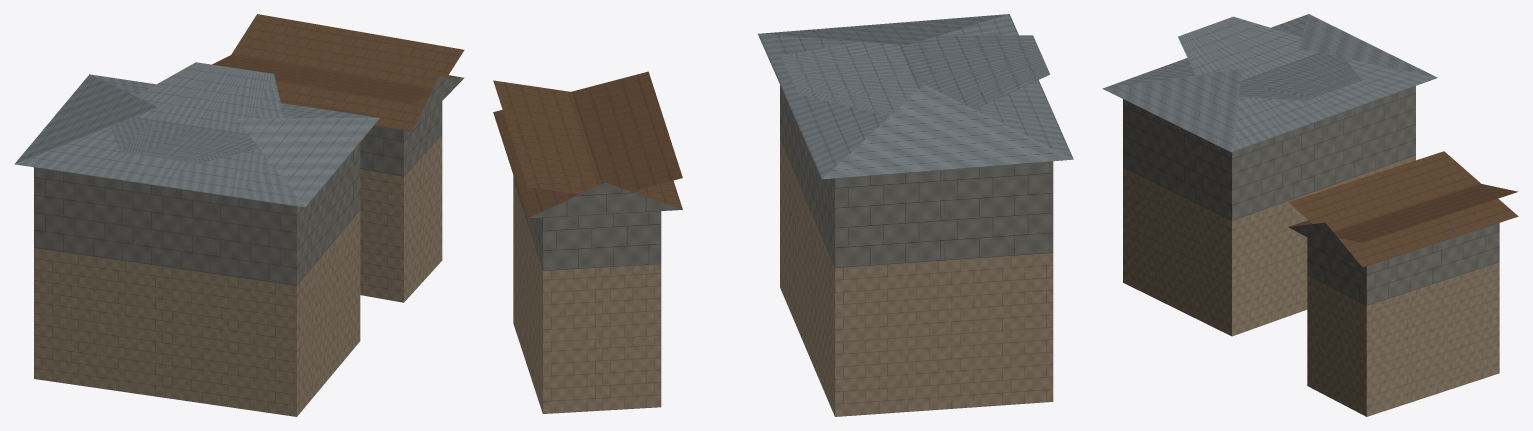
Rendered from bld_c15_38_408.gltf.
The picture shows the model from 3 angles, left to right: view 1: azimuth 30°, elevation 25°; view 2: azimuth 150°, elevation 25°; view 3: azimuth 270°, elevation 25°; orthographic projection. The views are drawn at different scales.
Visible parts, largest first — view 1: bld_c15_38_408; view 2: bld_c15_38_408; view 3: bld_c15_38_408.
Part boxes in pixels (left/top/right/bottom): bld_c15_38_408: left=14, top=14, right=464, bottom=416; bld_c15_38_408: left=493, top=14, right=1073, bottom=416; bld_c15_38_408: left=1102, top=14, right=1518, bottom=416.
Bounding box in the file's own units: 17.96 × 9.3 × 15.29.
5 materials, 5 textured.
